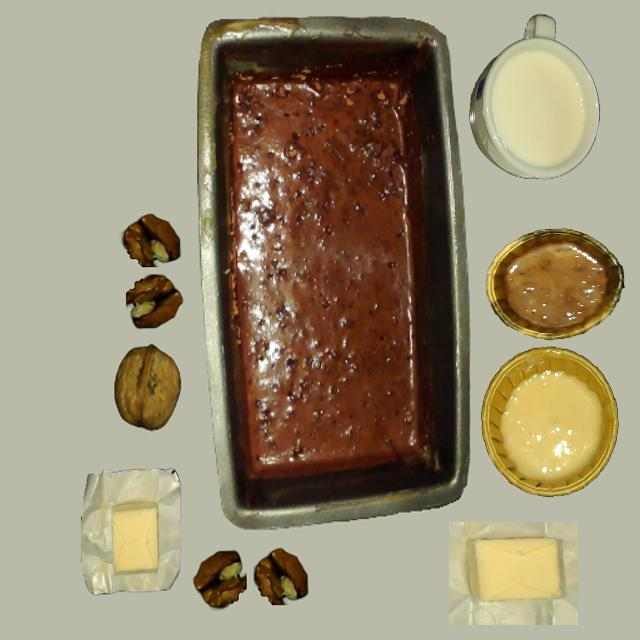Milk: (494, 52, 584, 164)
Walnut: (114, 345, 179, 430)
